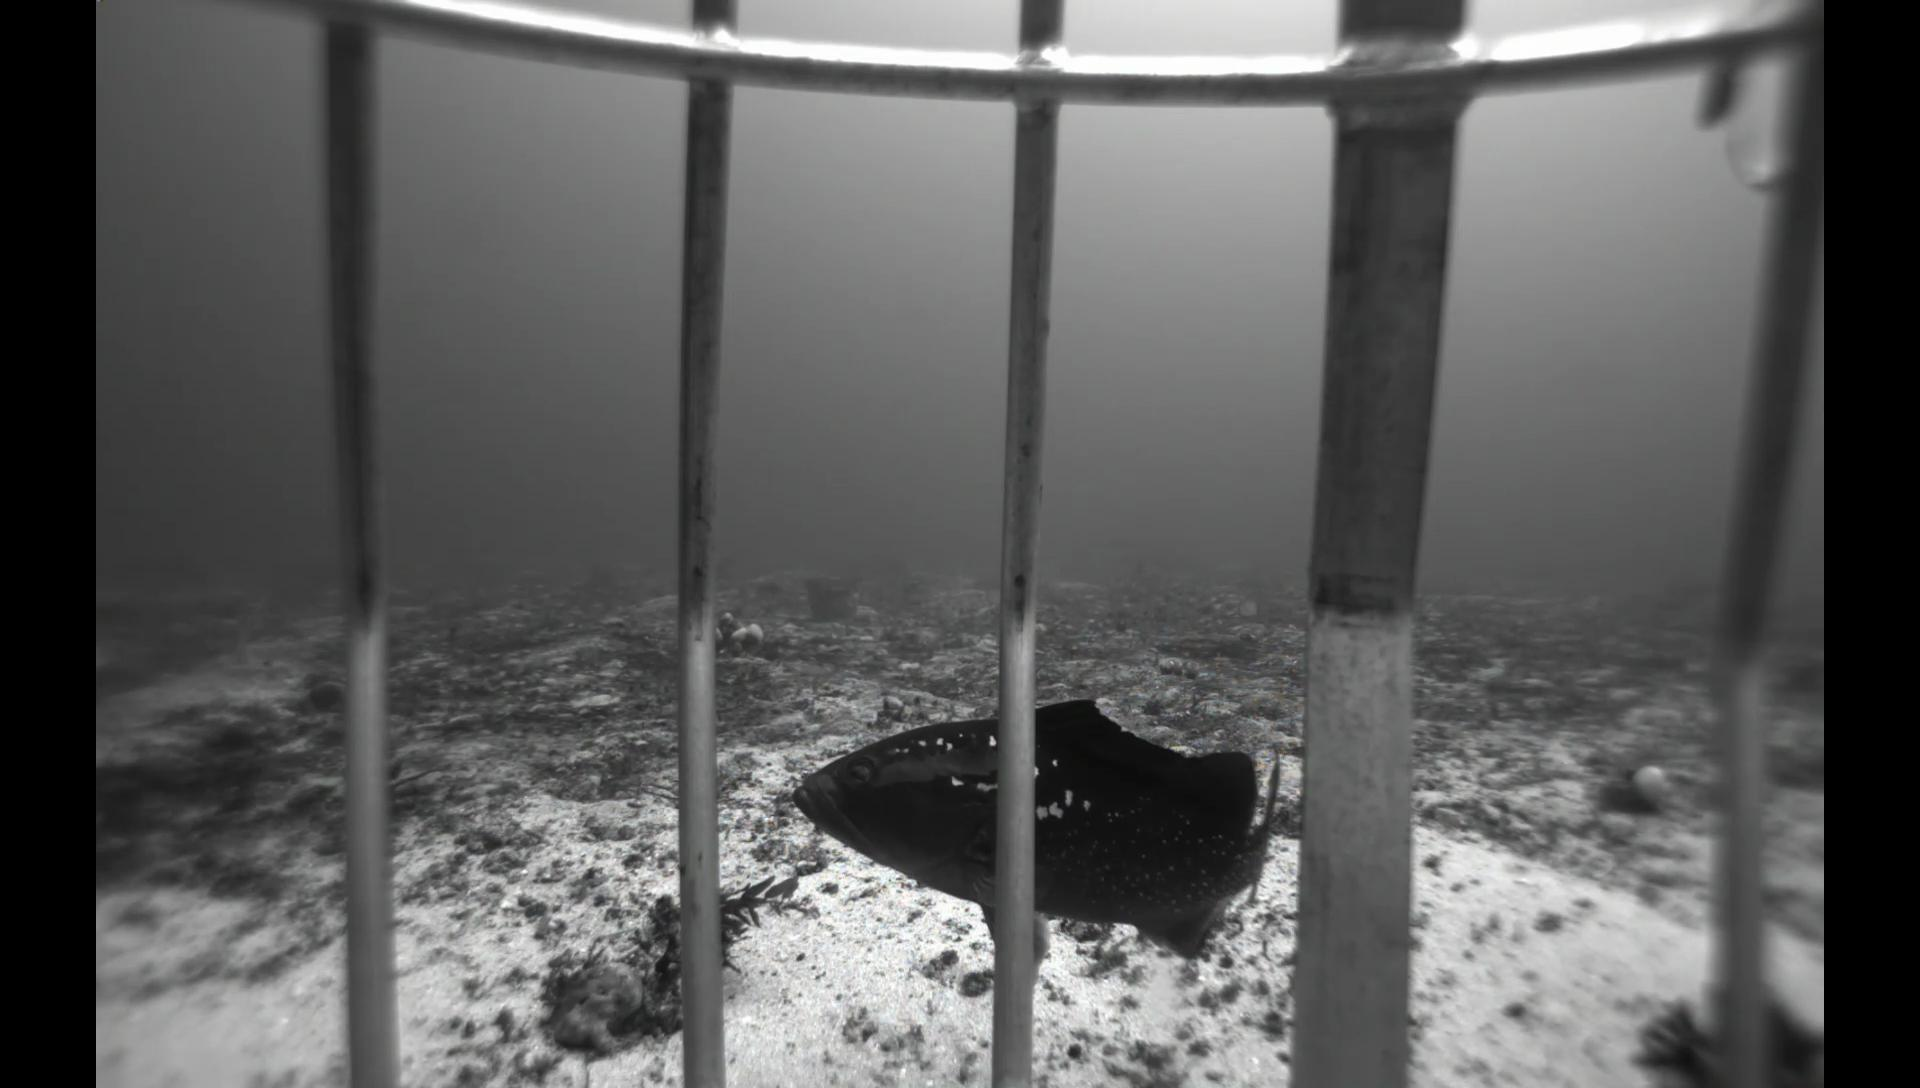CHAETODONOCELLATUS-170260307: (1232, 595, 1265, 619)
EPINEPHELUSMORIO-170021211: (781, 692, 1291, 963)
PRISTIGENYSALTA-170050401: (297, 677, 347, 719)
